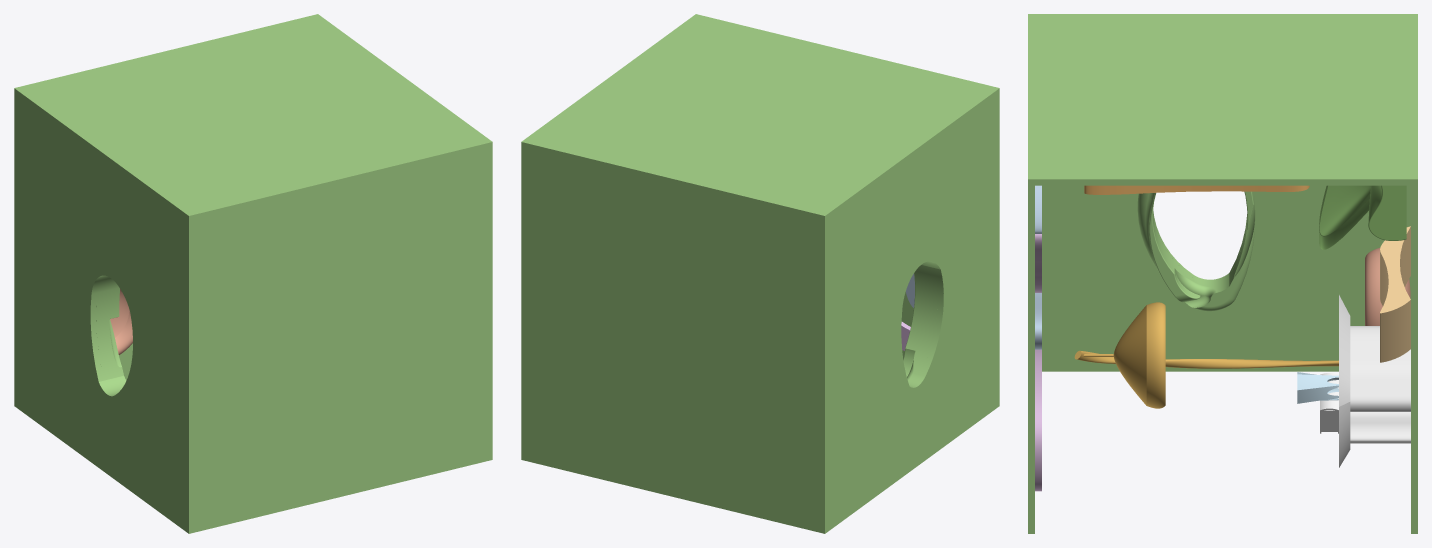
The model's file is playhouseassembly.gltf.
3 renders of one model, left to right at view 1: azimuth 30°, elevation 25°; view 2: azimuth 150°, elevation 25°; view 3: azimuth 270°, elevation 25°, orthographic. The views are drawn at different scales.
Parts seen in each view (by area): view 1: bt plate (×2), back plate, side plate, window, circle chair; view 2: bt plate (×2), back plate, side plate, window; view 3: back plate, side plate, table, bt plate (×2), lamp, window, tall chair, cushion, Part 1 (×2), picture frame, circle chair, book.
Part boxes in pixels (<box>): bt plate (×2): <box>14,14,492,533</box>; back plate: <box>15,15,490,220</box>; side plate: <box>15,95,187,532</box>; window: <box>96,275,126,394</box>; circle chair: <box>110,289,132,354</box>; bt plate (×2): <box>521,14,999,533</box>; back plate: <box>523,15,998,220</box>; side plate: <box>826,95,998,532</box>; window: <box>903,261,938,386</box>; back plate: <box>1031,14,1414,185</box>; side plate: <box>1042,185,1410,371</box>; table: <box>1339,295,1410,467</box>; bt plate (×2): <box>1028,14,1417,533</box>; lamp: <box>1074,302,1338,408</box>; window: <box>1137,191,1255,311</box>; tall chair: <box>1319,185,1406,249</box>; cushion: <box>1380,226,1410,362</box>; Part 1 (×2): <box>1035,349,1338,491</box>; picture frame: <box>1084,185,1309,194</box>; circle chair: <box>1365,248,1410,325</box>; book: <box>1320,373,1338,433</box>.
Bounding box in the file's own units: 0.14 × 0.14 × 0.1395.
